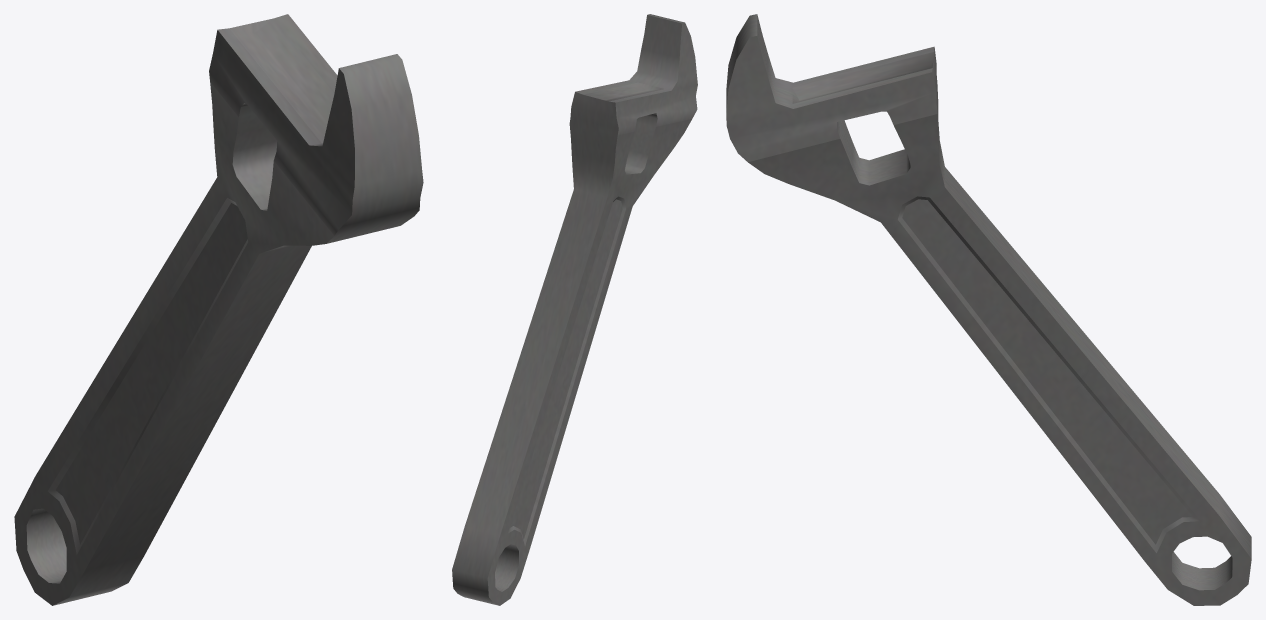
File: Wrench.FBX
3 renders of one model, left to right at view 1: azimuth 30°, elevation 25°; view 2: azimuth 150°, elevation 25°; view 3: azimuth 270°, elevation 25°, orthographic. The views are drawn at different scales.
Parts seen in each view (by area): view 1: Wrench; view 2: Wrench; view 3: Wrench.
Boxes of the visible parts, bbox=[...] form: Wrench: bbox=[14, 14, 423, 605]; Wrench: bbox=[452, 14, 697, 605]; Wrench: bbox=[726, 14, 1251, 605].
Size of the model in its own units: 1.79 by 15.58 by 13.01.
